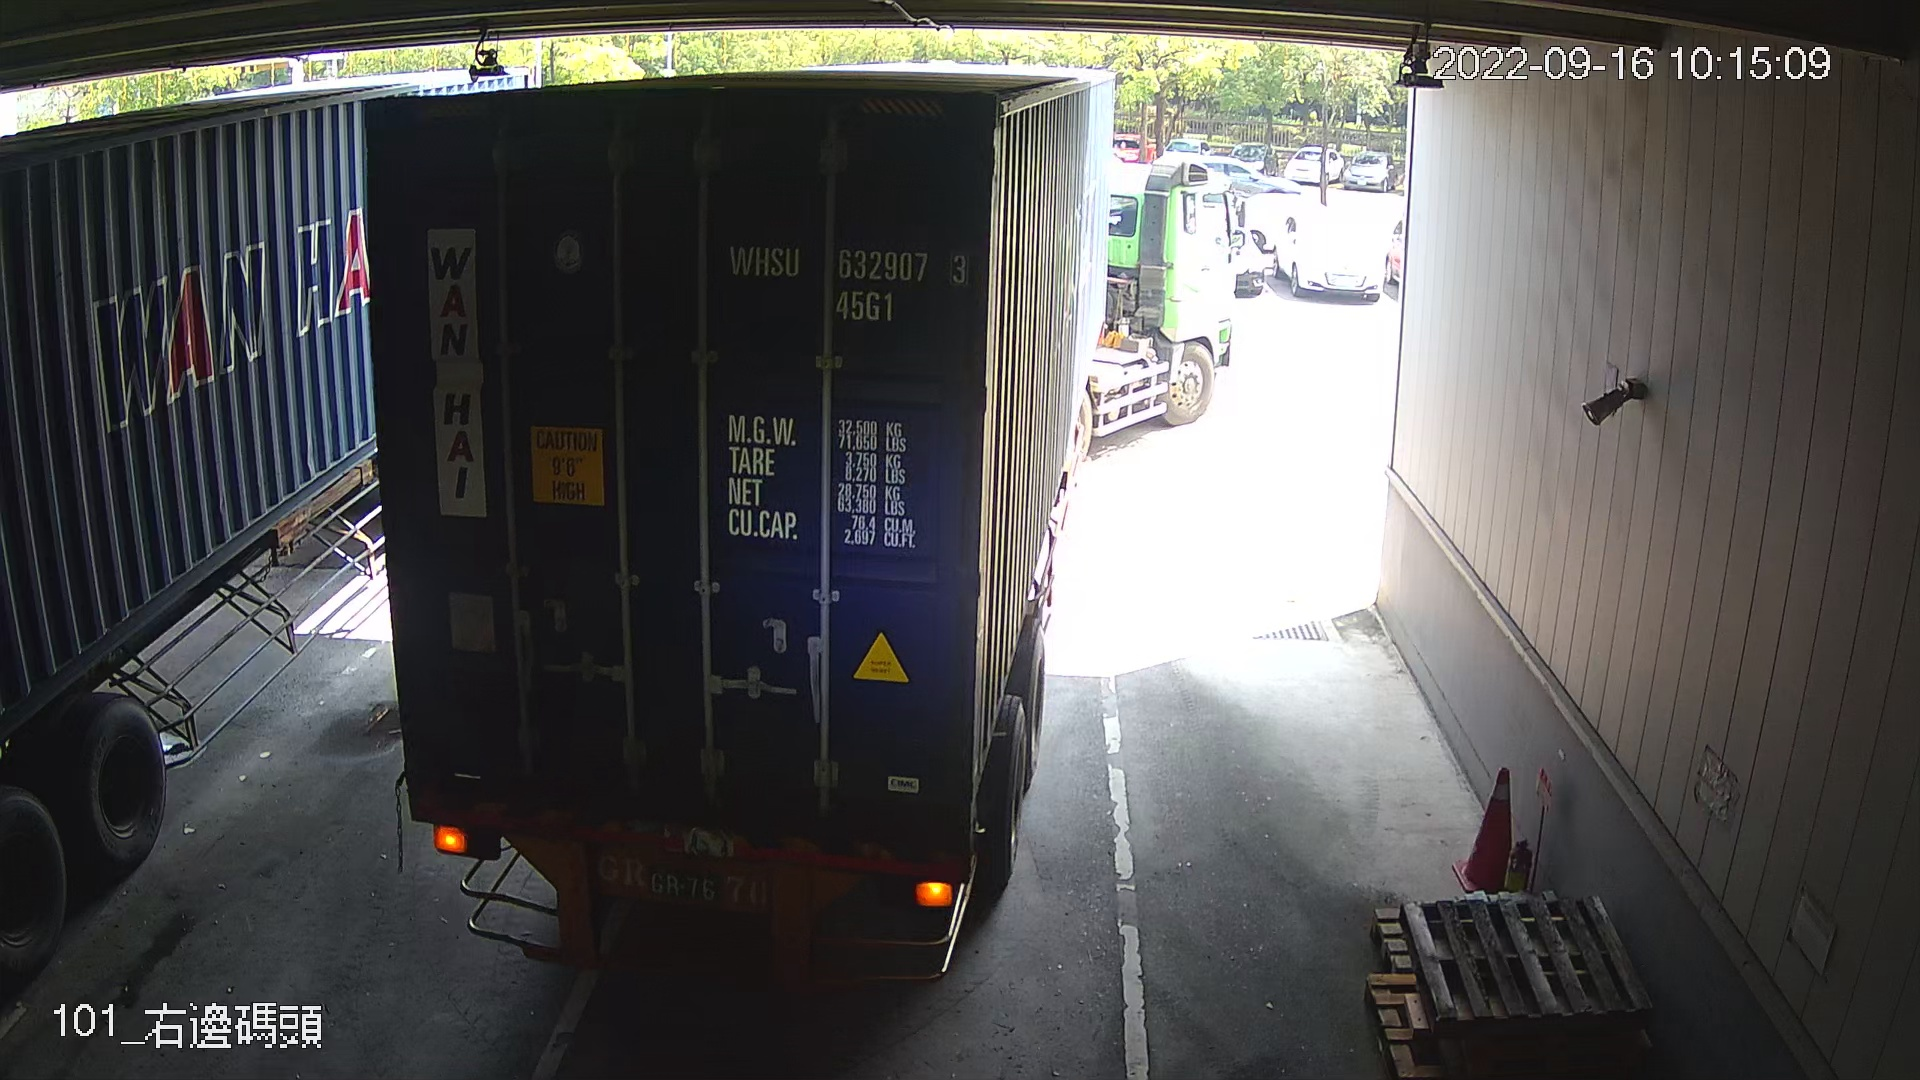container: (720, 233, 976, 332)
